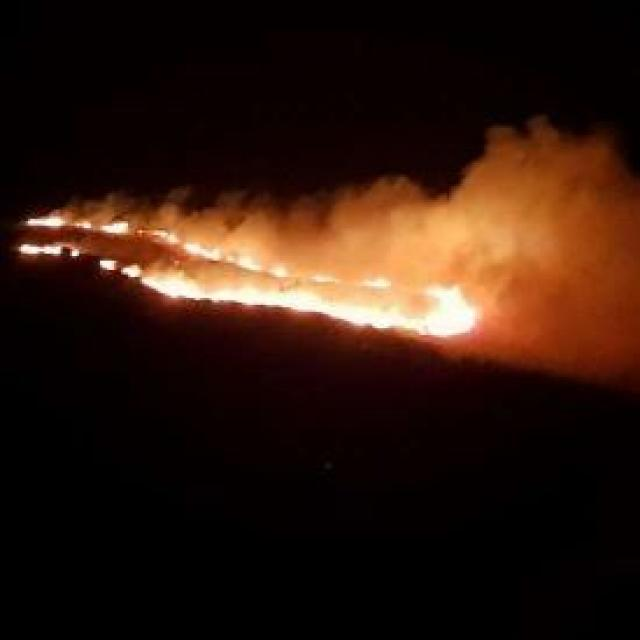Fire: (28, 208, 468, 332)
Smoke: (169, 141, 632, 367)
